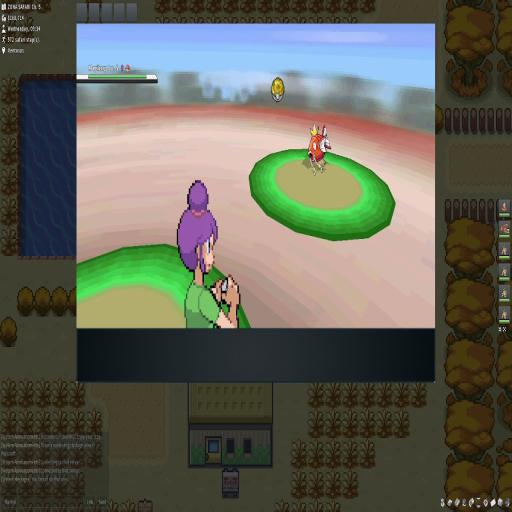MAGIKARP: (305, 121, 332, 177)
